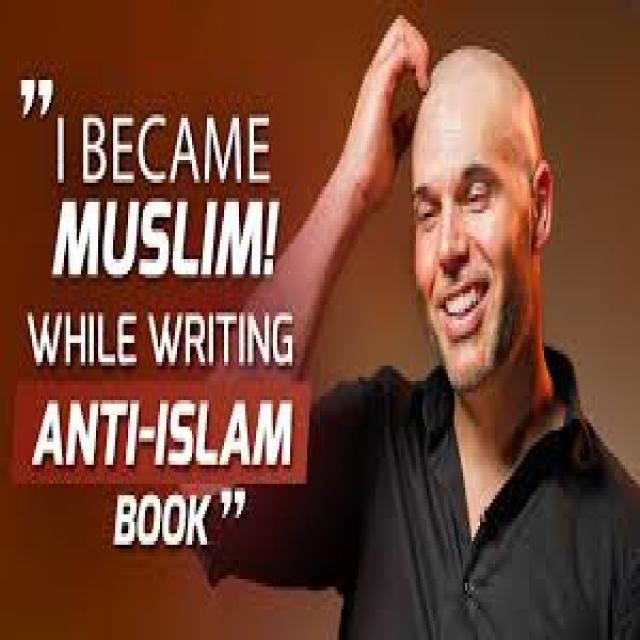happy: (406, 25, 578, 400)
